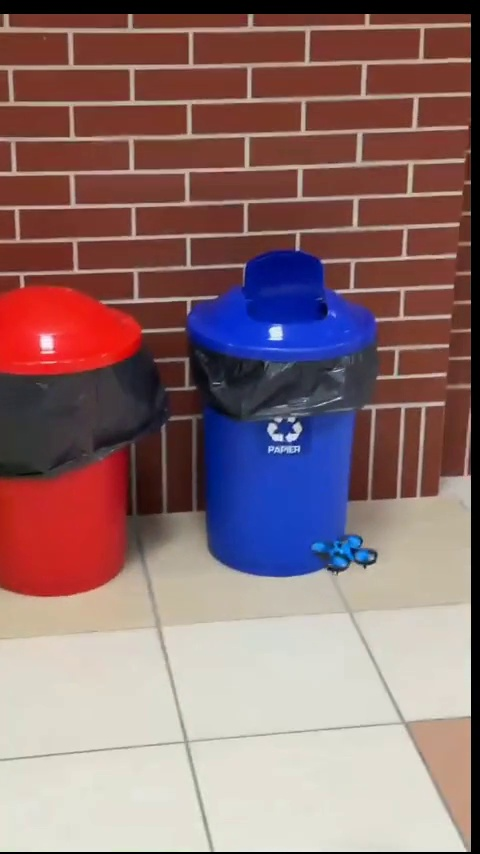drone: (311, 534, 378, 577)
